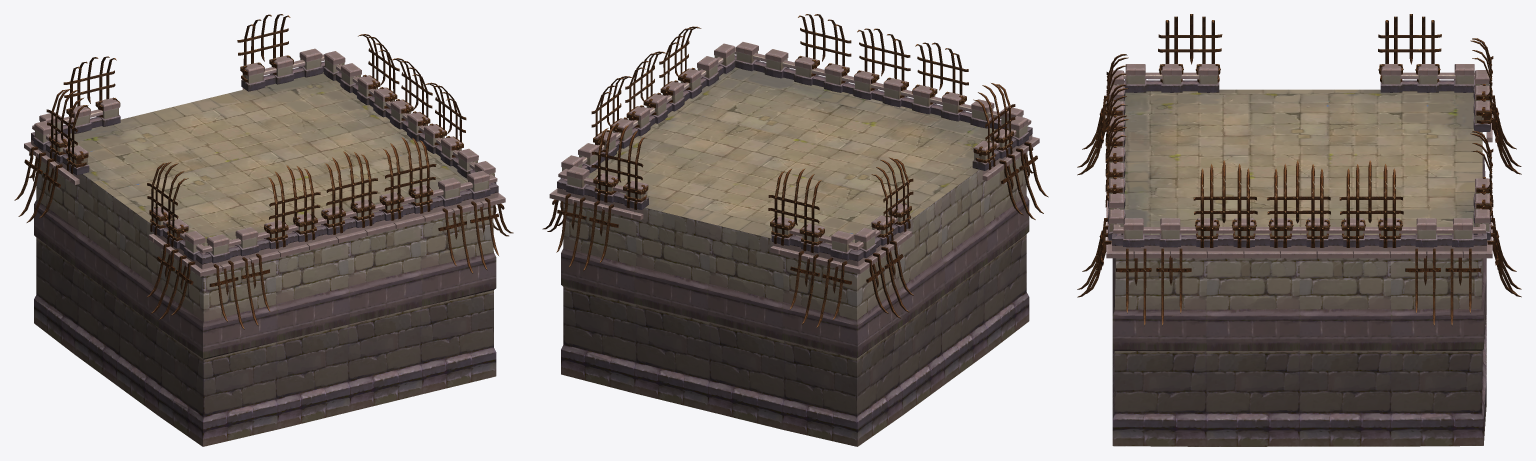
The model's file is pingtai20_01.FBX.
The picture shows the model from 3 angles, left to right: view 1: azimuth 30°, elevation 25°; view 2: azimuth 150°, elevation 25°; view 3: azimuth 270°, elevation 25°; orthographic projection. The views are drawn at different scales.
Visible parts, largest first — view 1: pingtai20_01; view 2: pingtai20_01; view 3: pingtai20_01.
Part boxes in pixels (x1,y1,x2,y2): pingtai20_01: (14,14,513,446); pingtai20_01: (542,14,1048,446); pingtai20_01: (1077,14,1521,446).
Bounding box in the file's own units: 2417 × 1688 × 2431.
Materials: 3 (3 with a texture image).
